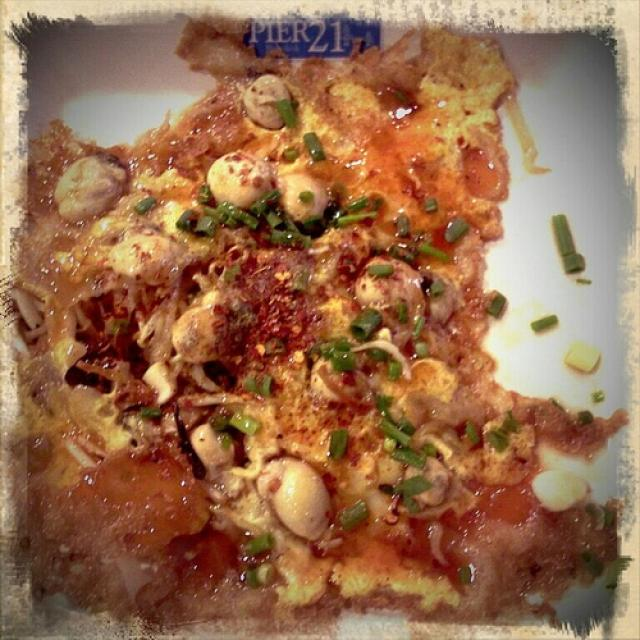炸货点心: (19, 23, 598, 621)
蛋糕甜品: (19, 23, 598, 621)
